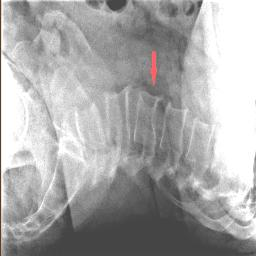cancer: (139, 92, 171, 136)
